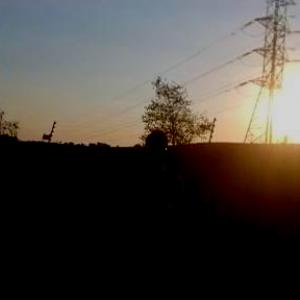follow: (114, 126, 188, 299)
